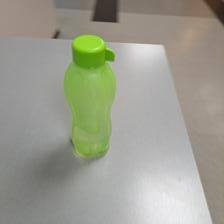bottle: (65, 31, 120, 160)
